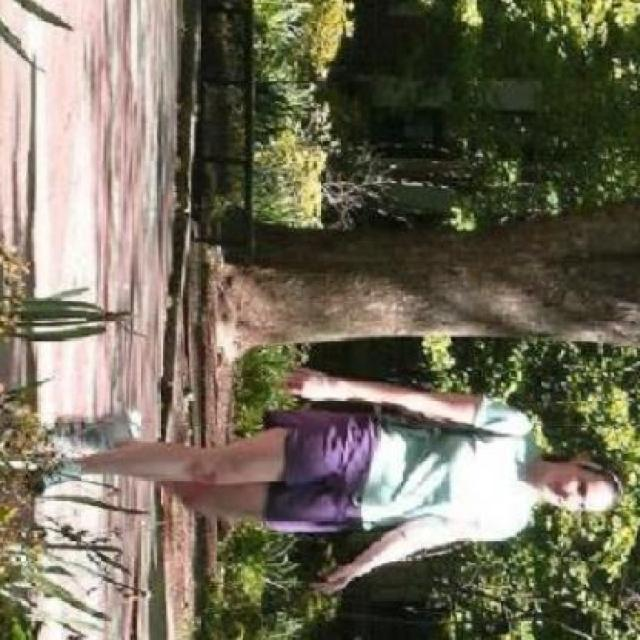Person: (30, 366, 633, 600)
